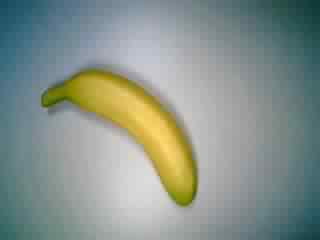banana: (37, 66, 201, 208)
